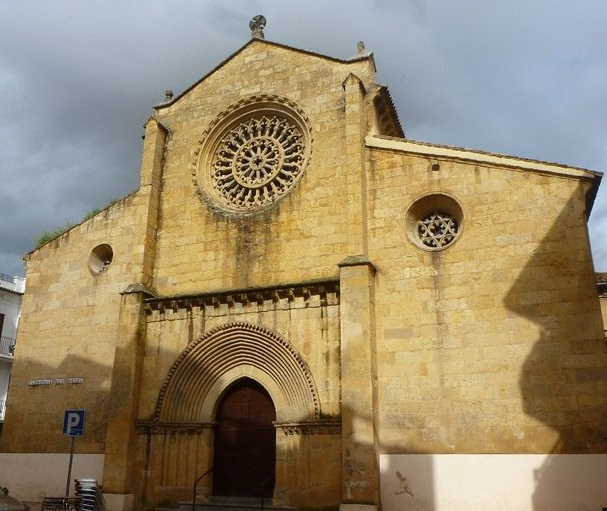arco-apuntado: (204, 370, 282, 429)
